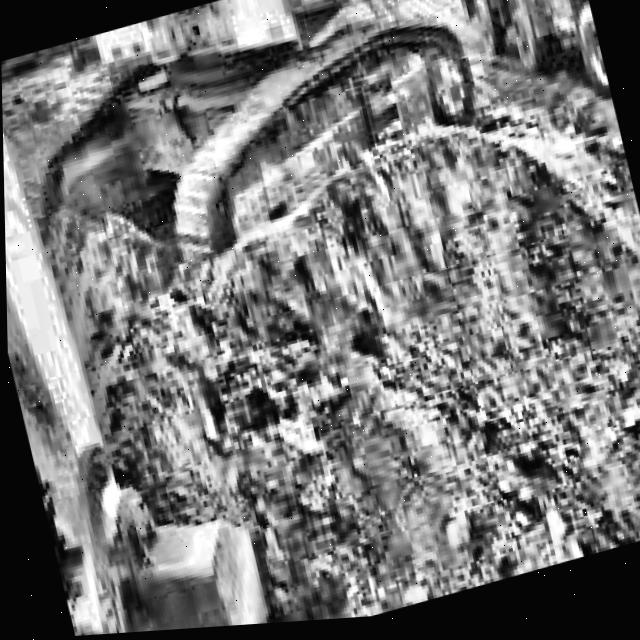excavator: (0, 0, 584, 640)
